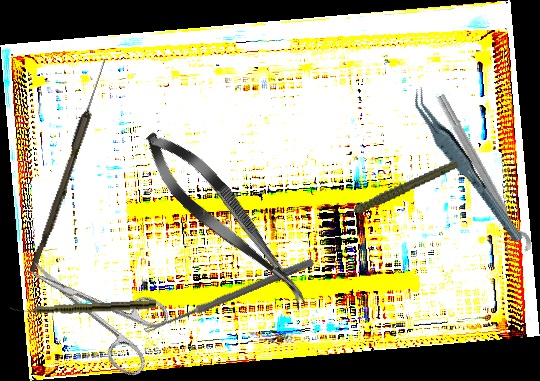Fixation Ring: (423, 91, 535, 261)
Handpiece: (329, 159, 464, 220), (8, 298, 157, 317)
Iris Scissors: (10, 231, 179, 381)
Micro Scissor: (131, 119, 324, 321)
Surgical Spoon: (29, 56, 110, 275), (142, 256, 315, 337)
Tissue Forceps: (407, 78, 525, 254)
